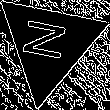N_E: (21, 20, 77, 69)
